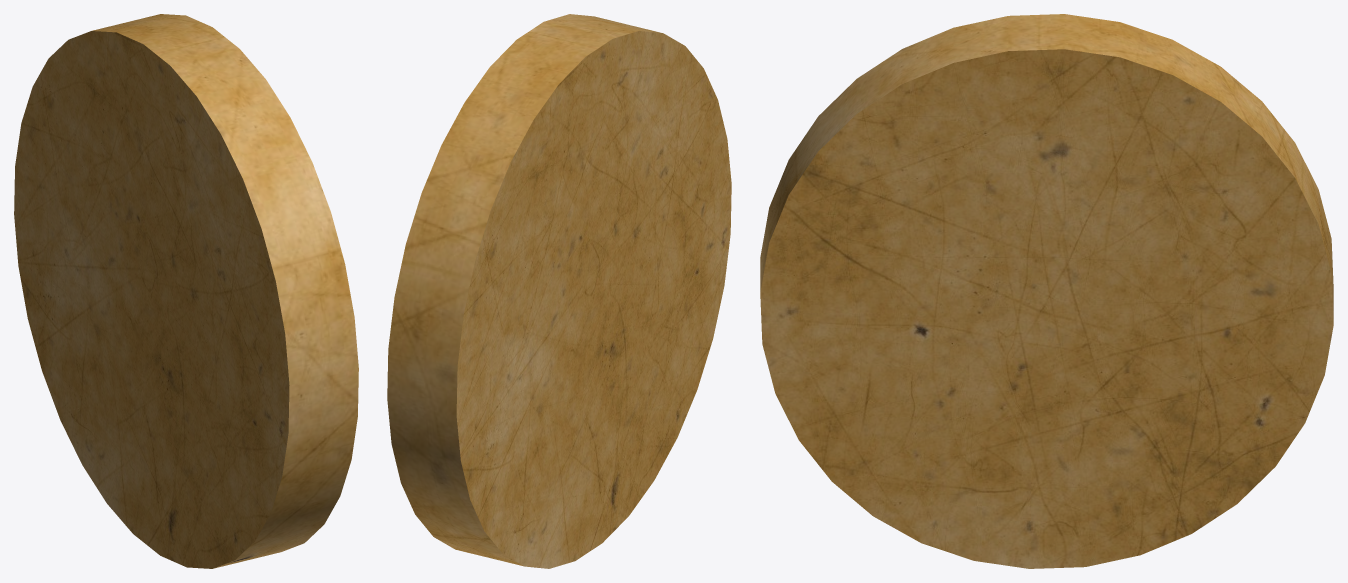
Rendered from coin 1.fbx.
The picture shows the model from 3 angles, left to right: view 1: azimuth 30°, elevation 25°; view 2: azimuth 150°, elevation 25°; view 3: azimuth 270°, elevation 25°; orthographic projection. The views are drawn at different scales.
Parts seen in each view (by area): view 1: Circle; view 2: Circle; view 3: Circle.
Part boxes in pixels (x1,y1,x2,y2): Circle: [14, 14, 358, 568]; Circle: [387, 14, 731, 568]; Circle: [760, 14, 1333, 568].
Size of the model in its own units: 29.04 by 200 by 200.
Materials: 1 (1 with a texture image).
